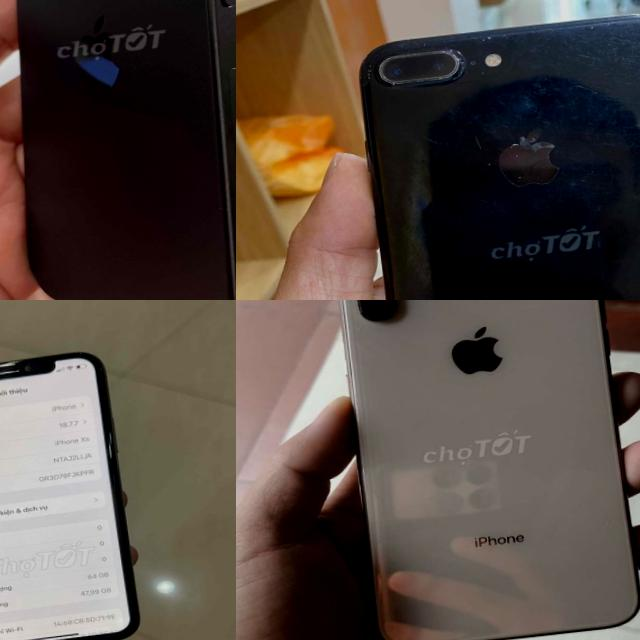gen_15: (0, 0, 236, 300)
gen_7_8: (339, 1, 640, 300)
gen_x_xs: (340, 300, 640, 640), (0, 343, 154, 640)
